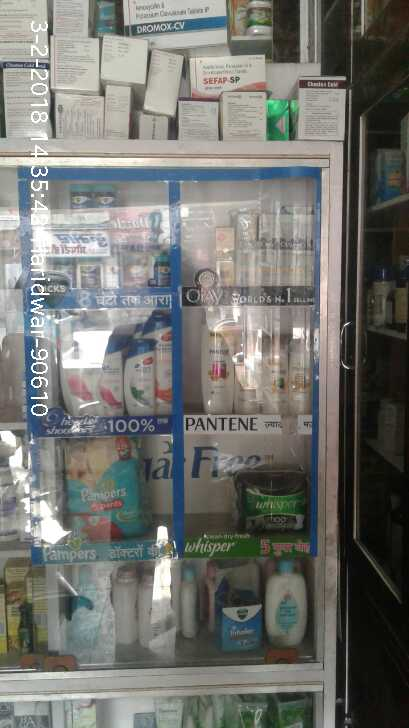vicks: (217, 600, 266, 654), (70, 185, 118, 220)
